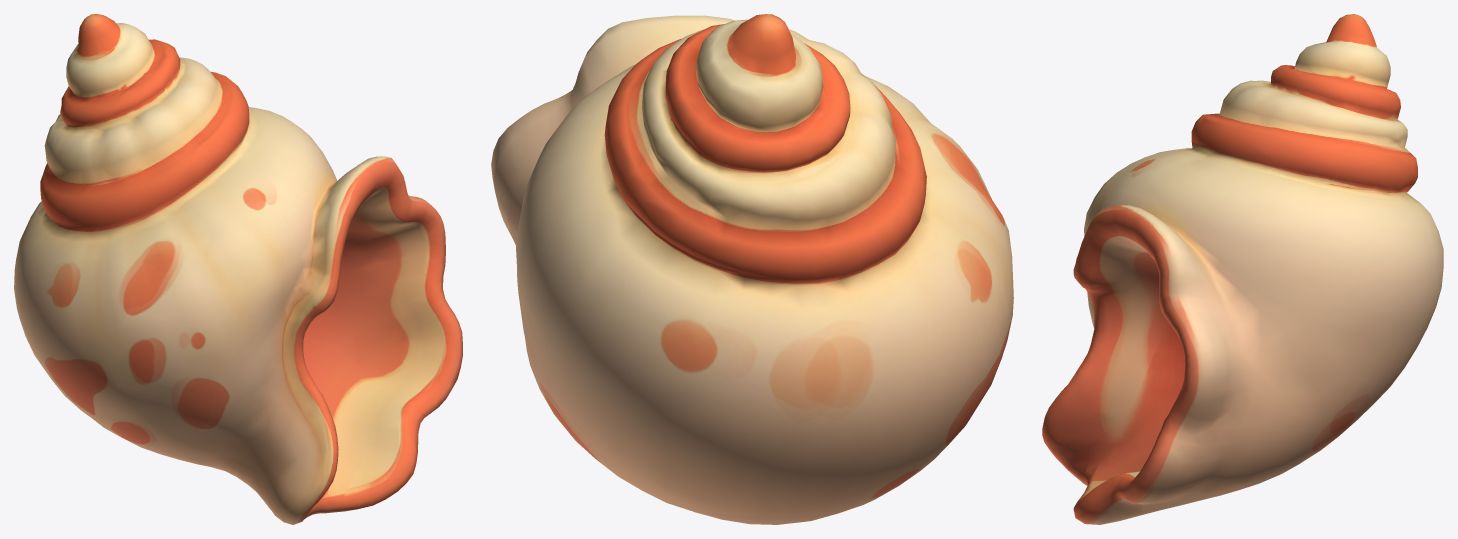
The model's file is conch-shell.glb.
The picture shows the model from 3 angles, left to right: view 1: azimuth 30°, elevation 25°; view 2: azimuth 150°, elevation 25°; view 3: azimuth 270°, elevation 25°; orthographic projection. The views are drawn at different scales.
Visible parts, largest first — view 1: Conch Shell; view 2: Conch Shell; view 3: Conch Shell.
Part boxes in pixels (<box>): Conch Shell: <box>14,14,462,524</box>; Conch Shell: <box>491,14,1013,524</box>; Conch Shell: <box>1042,14,1443,524</box>.
Size of the model in its own units: 0.9043 by 0.998 by 0.8301.
1 material, 1 textured.
